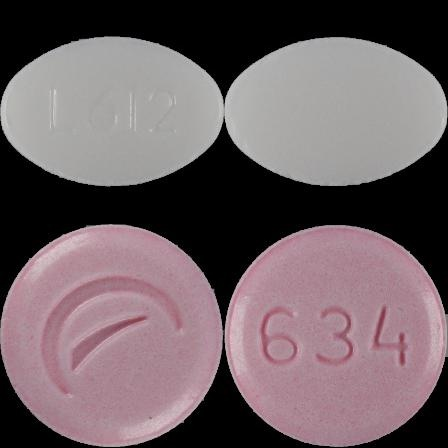35356-881: (0, 0, 224, 224)
